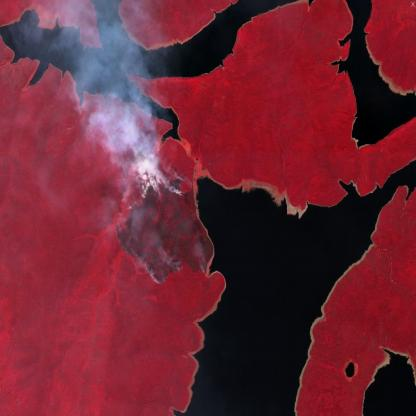fire: (115, 171, 215, 286)
